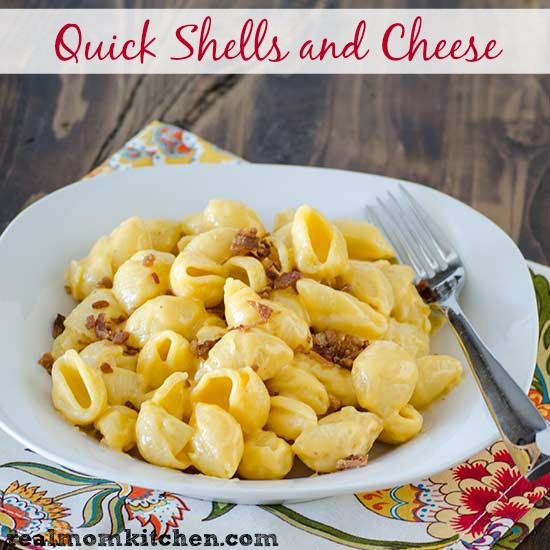macncheese: (51, 201, 464, 479)
